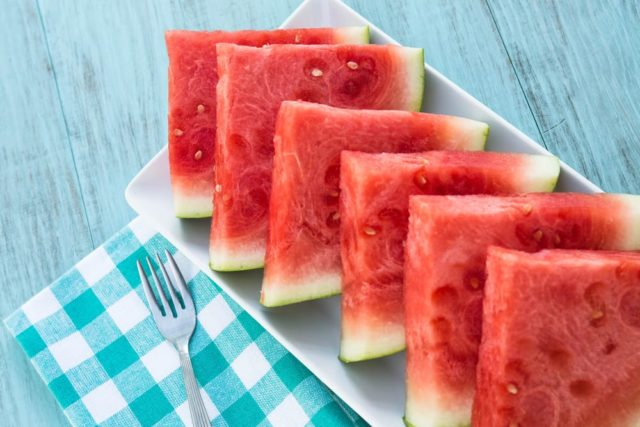Semangka: (172, 34, 363, 224), (462, 235, 640, 421), (412, 185, 574, 368), (314, 122, 457, 293)
